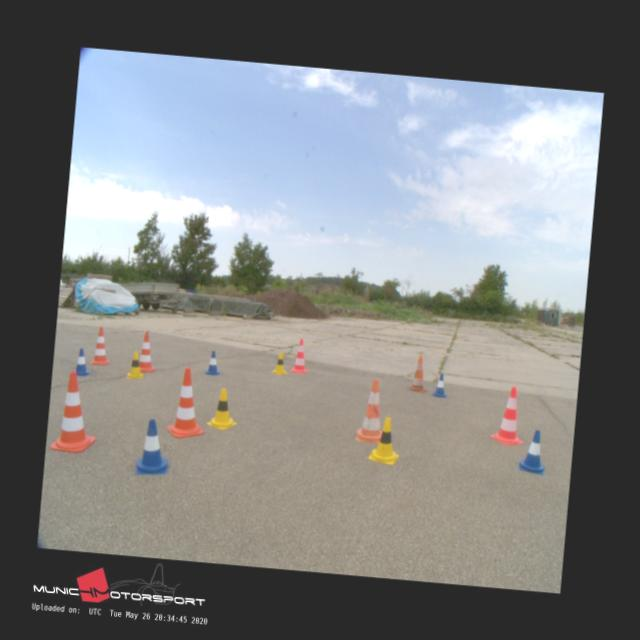blue_cone: (135, 418, 171, 475), (518, 428, 547, 472), (72, 348, 92, 375), (431, 372, 448, 397), (204, 350, 221, 374)
large_orange_cone: (49, 369, 100, 452), (167, 366, 209, 439), (489, 383, 526, 445), (356, 377, 389, 442), (90, 325, 111, 365), (136, 331, 156, 372), (408, 352, 428, 390), (290, 338, 310, 372)
yellow_cone: (368, 416, 400, 464), (205, 386, 238, 428), (126, 350, 144, 378), (271, 351, 289, 374)
